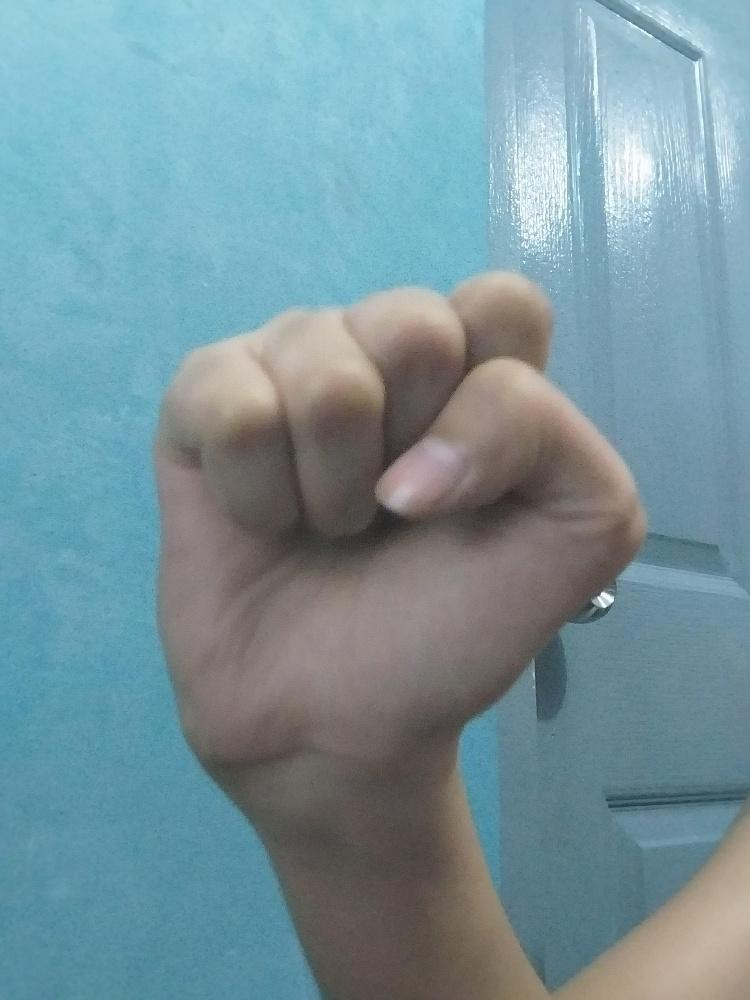s: (149, 266, 649, 763)
